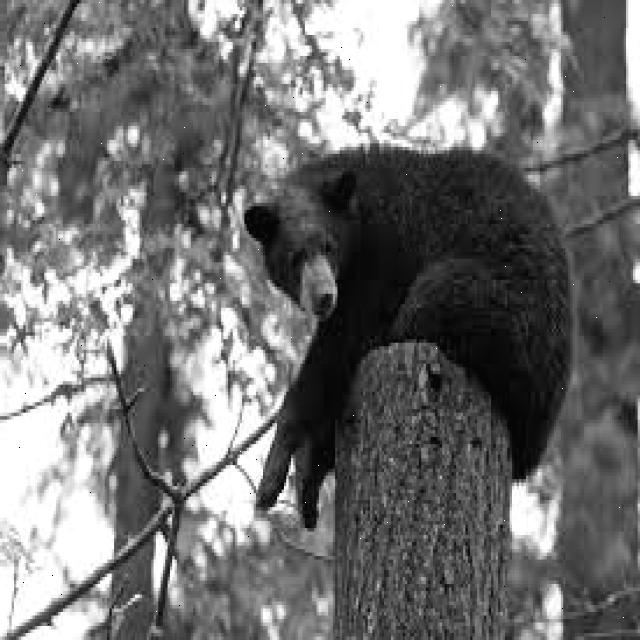bear: (247, 147, 570, 530)
